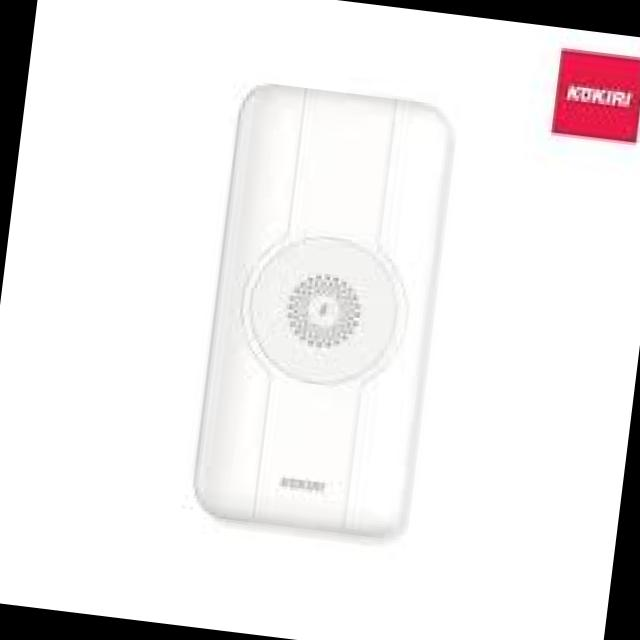portable-charger: (184, 75, 459, 548)
